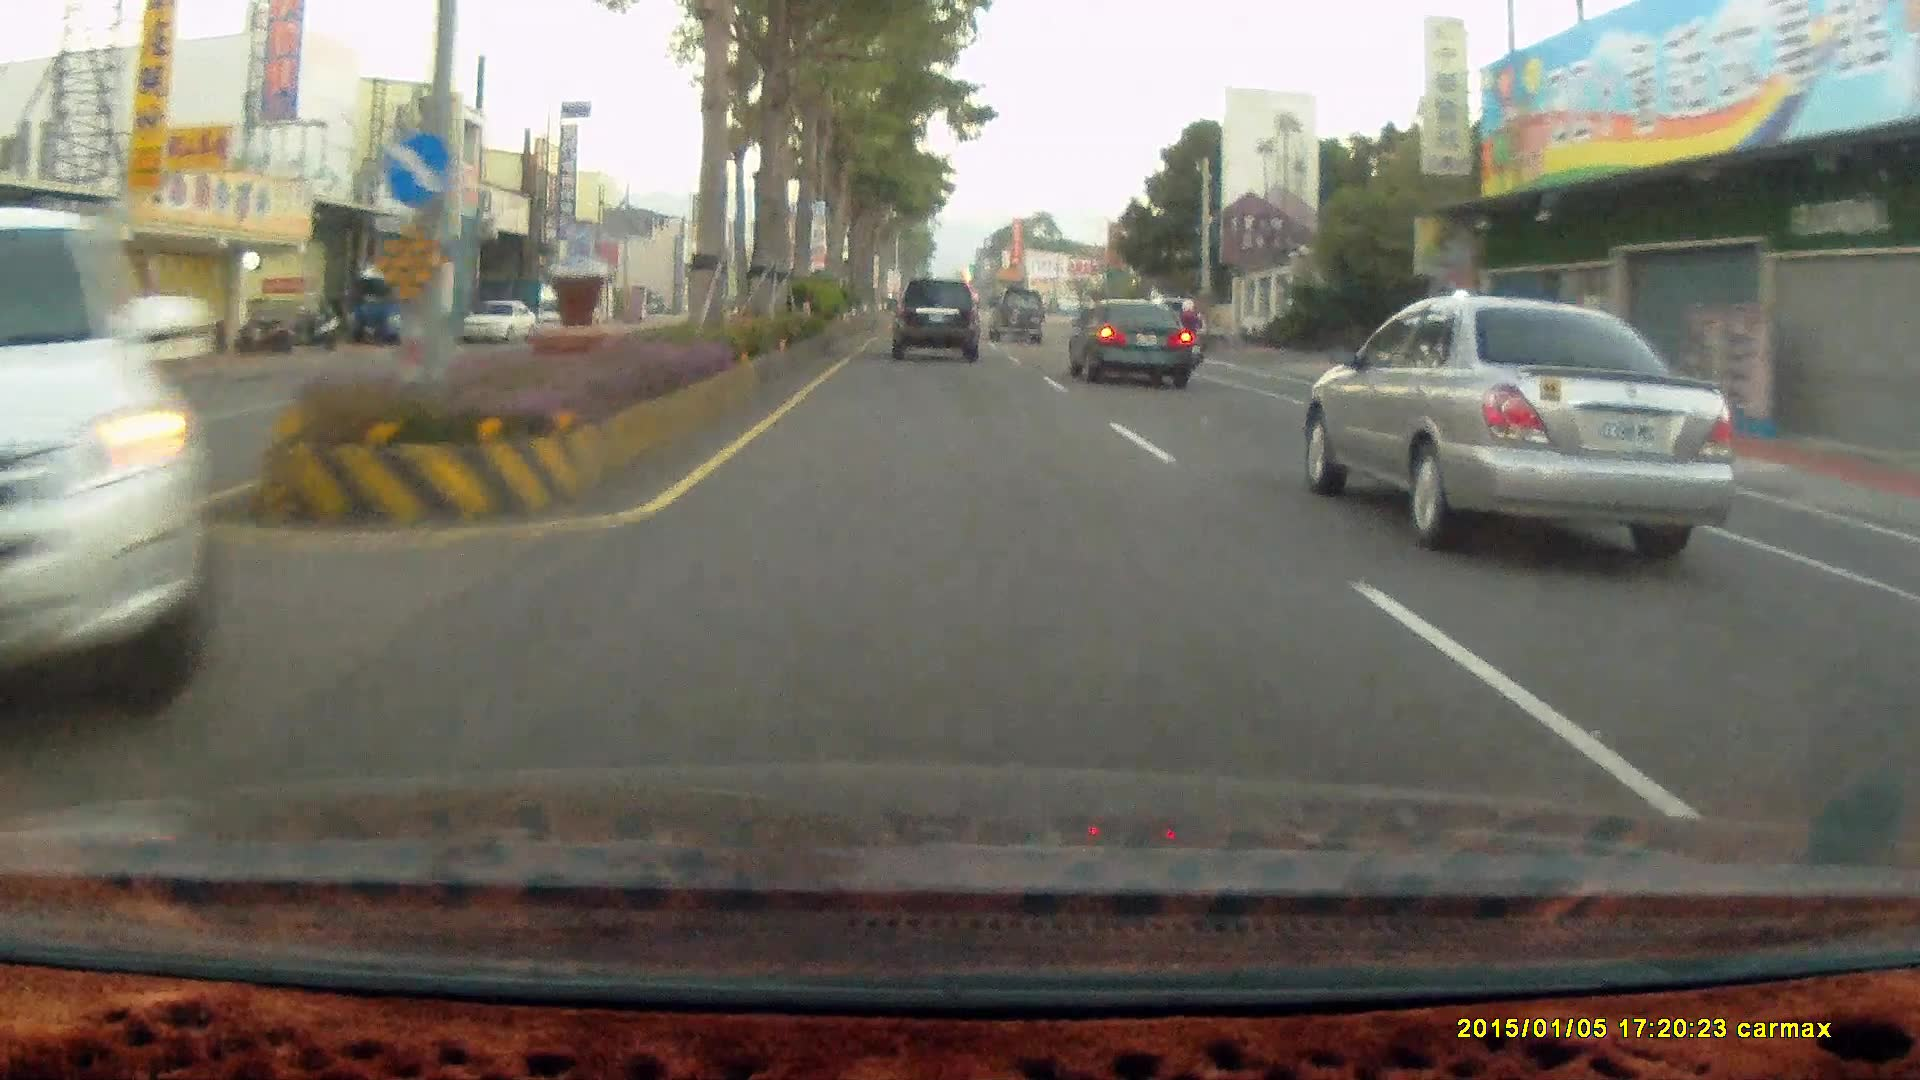rider: (1164, 297, 1209, 372)
vehicle: (1298, 295, 1732, 561), (1, 207, 218, 731), (0, 208, 210, 732), (1065, 298, 1193, 390), (10, 300, 135, 391), (1072, 305, 1200, 392), (349, 256, 456, 343), (352, 262, 459, 349), (890, 273, 985, 358), (892, 276, 979, 360), (464, 306, 542, 351), (988, 291, 1047, 350), (987, 288, 1045, 347), (461, 300, 538, 345)
